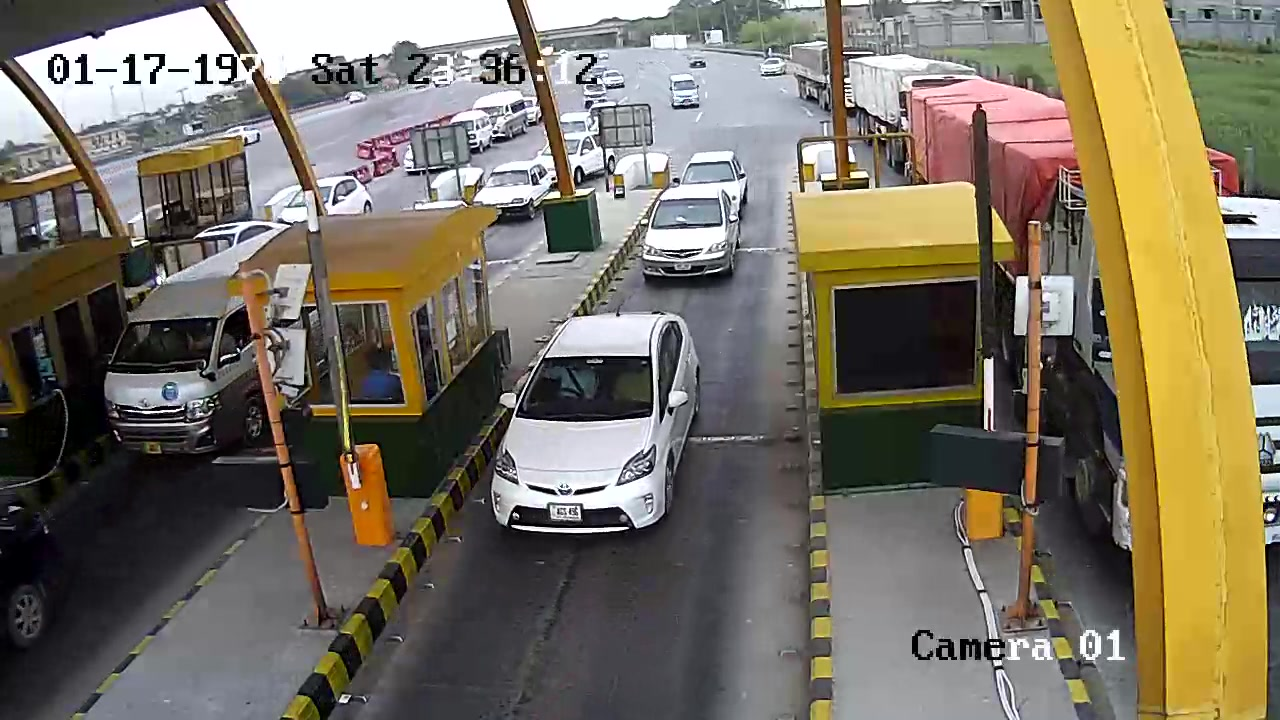F1: (477, 302, 735, 547), (638, 178, 750, 290)
